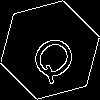Q: (25, 25, 87, 87)
